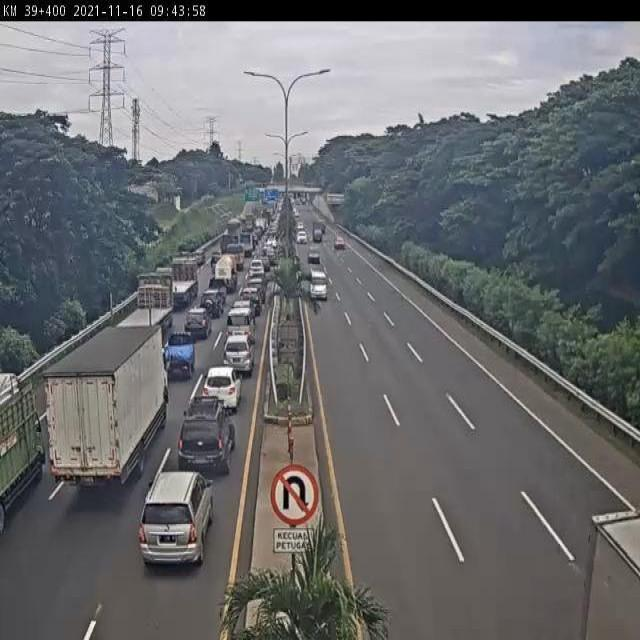car: (135, 475, 216, 588), (175, 399, 238, 484), (200, 364, 240, 417), (160, 332, 195, 381), (222, 335, 255, 380), (225, 308, 254, 348), (181, 309, 209, 343), (202, 289, 225, 320)
truck-l-: (103, 272, 172, 351), (157, 256, 199, 315)
truck-m-: (43, 325, 170, 491)
